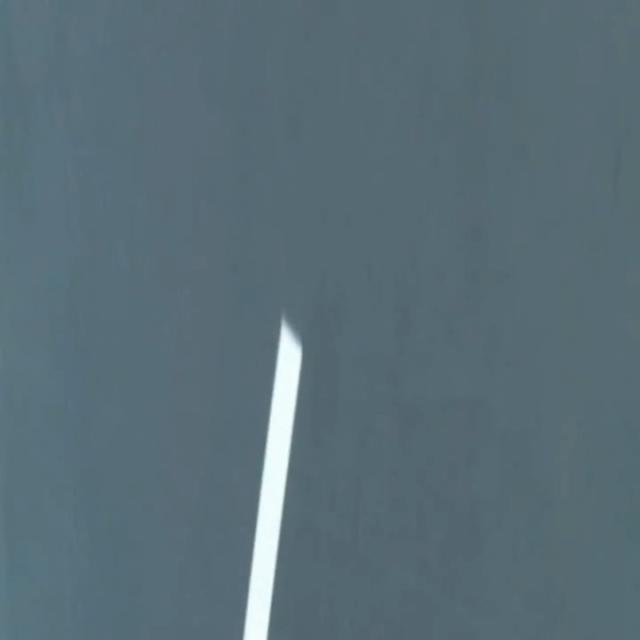center: (243, 317, 301, 639)
